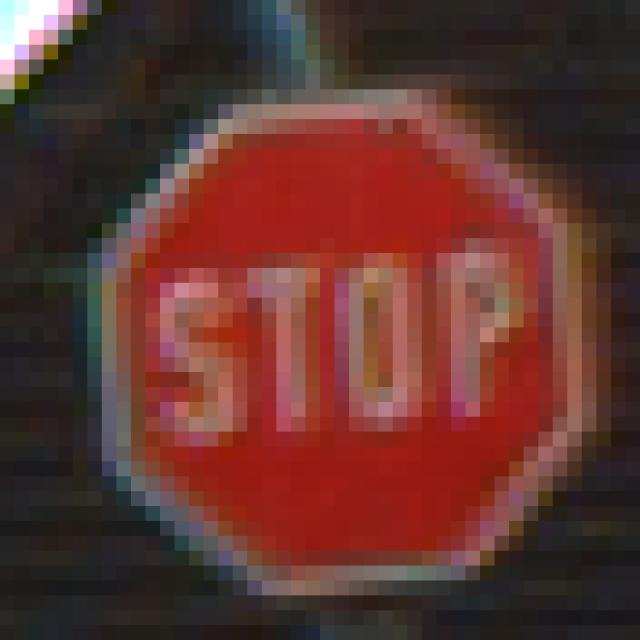STOP: (89, 76, 569, 567)
